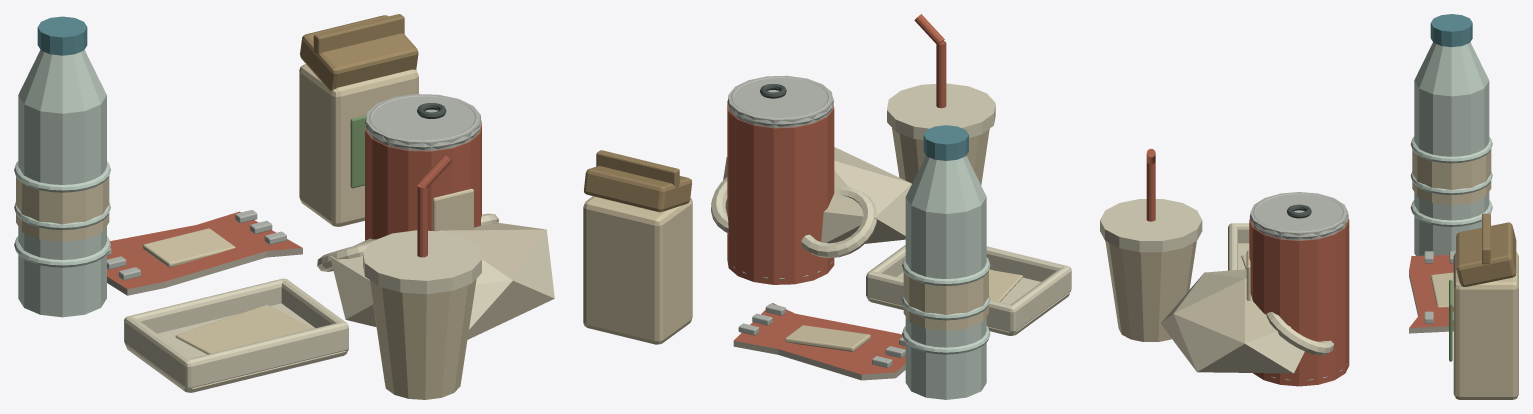
File: Litter_Cluster_1.glb
The picture shows the model from 3 angles, left to right: view 1: azimuth 30°, elevation 25°; view 2: azimuth 150°, elevation 25°; view 3: azimuth 270°, elevation 25°; orthographic projection. The views are drawn at different scales.
Visible parts, largest first — view 1: Litter; view 2: Litter; view 3: Litter.
Part boxes in pixels (left/top/right/bottom): Litter: left=14, top=14, right=554, bottom=399; Litter: left=583, top=14, right=1071, bottom=399; Litter: left=1100, top=14, right=1518, bottom=399.
Size of the model in its own units: 0.7897 by 0.507 by 0.8359.
